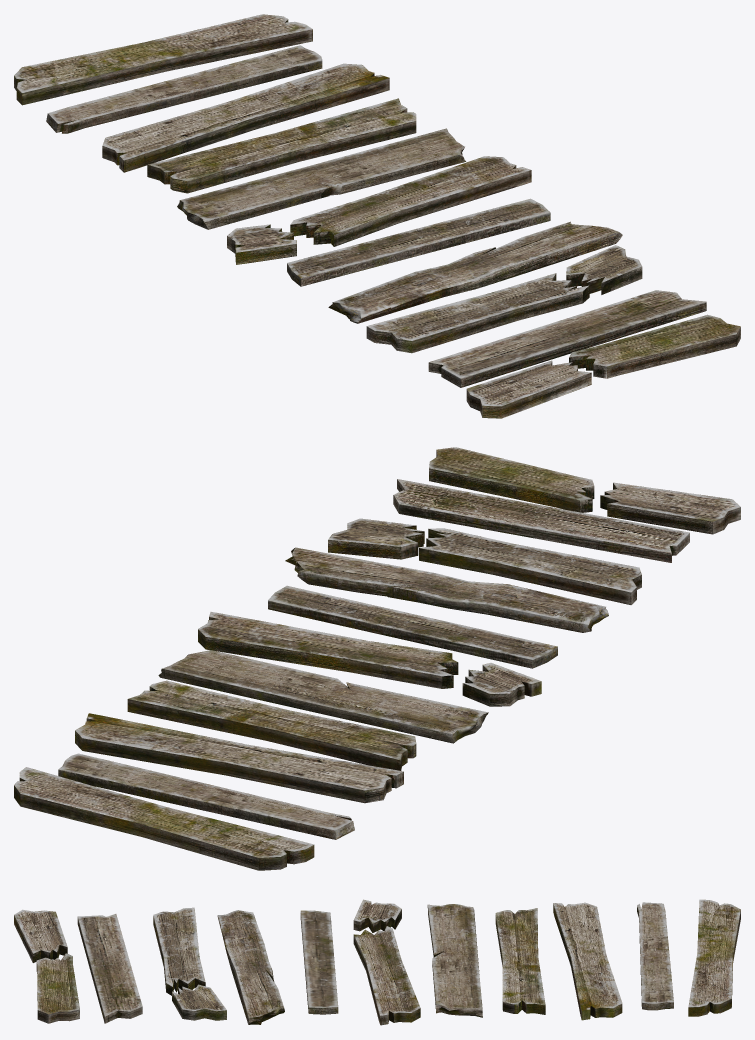
File: WoodRoadStraight.fbx
The picture shows the model from 3 angles, top to bottom: view 1: azimuth 30°, elevation 25°; view 2: azimuth 150°, elevation 25°; view 3: azimuth 270°, elevation 25°; orthographic projection. The views are drawn at different scales.
Parts seen in each view (by area): view 1: prim0; view 2: prim0; view 3: prim0.
Boxes of the visible parts, left/top/right/bottom form: prim0: left=14, top=14, right=740, bottom=418; prim0: left=14, top=447, right=740, bottom=870; prim0: left=14, top=899, right=740, bottom=1025.
Bounding box in the file's own units: 207 × 8.34 × 532.
